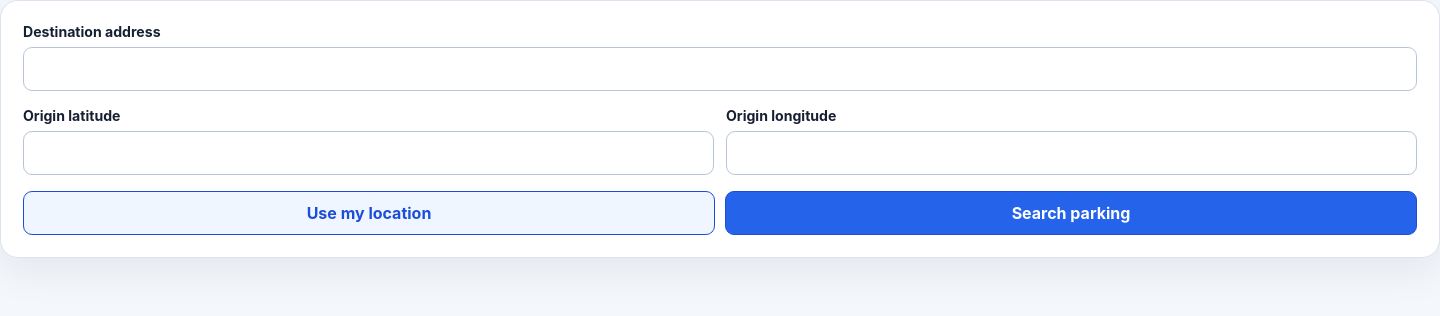
SearchForm › search_form_rejects_invalid_coordinates
Step 1. Type "Marszałkowska 10" into the field labelled "Destination address" → x=720, y=69, box [23,47,1417,91]
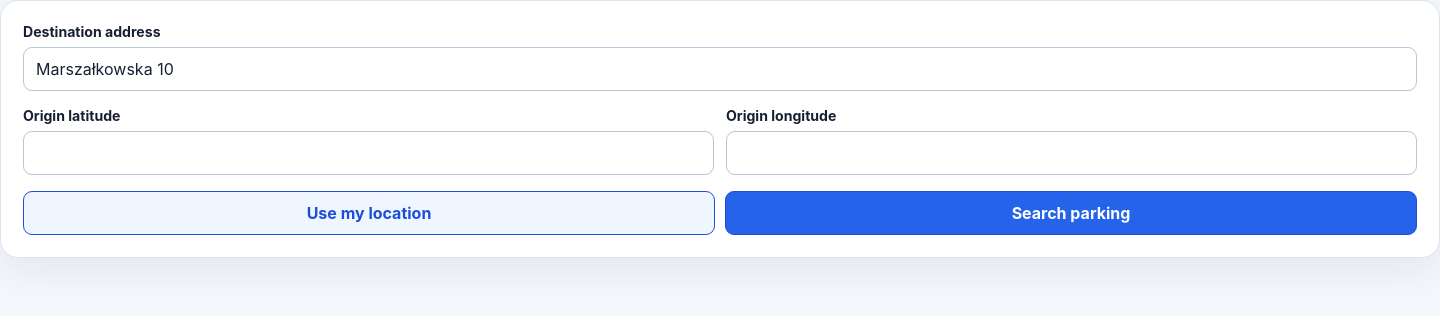
Step 2. Type "91" into the number field labelled "Origin latitude" → x=368, y=153, box [23,131,714,175]
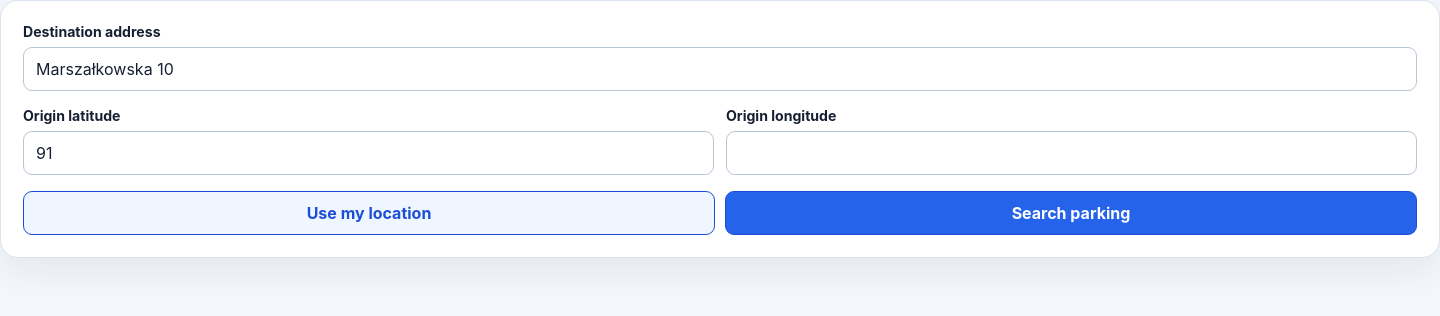
Step 3. Type "21" into the number field labelled "Origin longitude" → x=1072, y=153, box [726,131,1417,175]
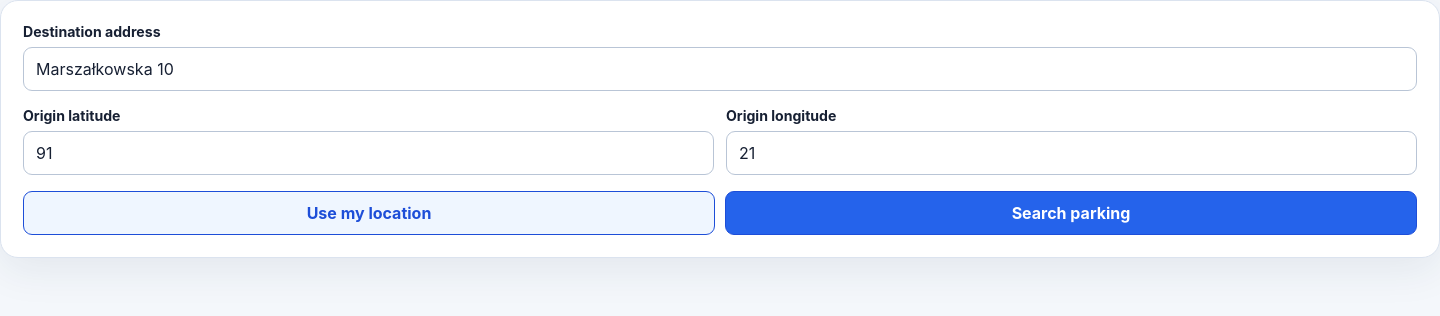
Step 4. Click the button "Search parking" → x=1071, y=213, box [725,191,1417,235]
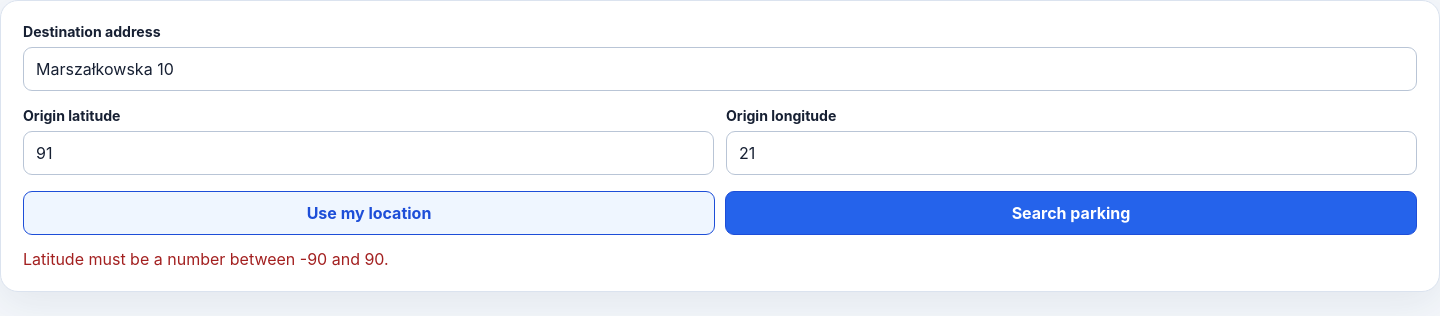
Expected: the message reads "Latitude must be a number between -90 and 90.", [23,249,389,269]
